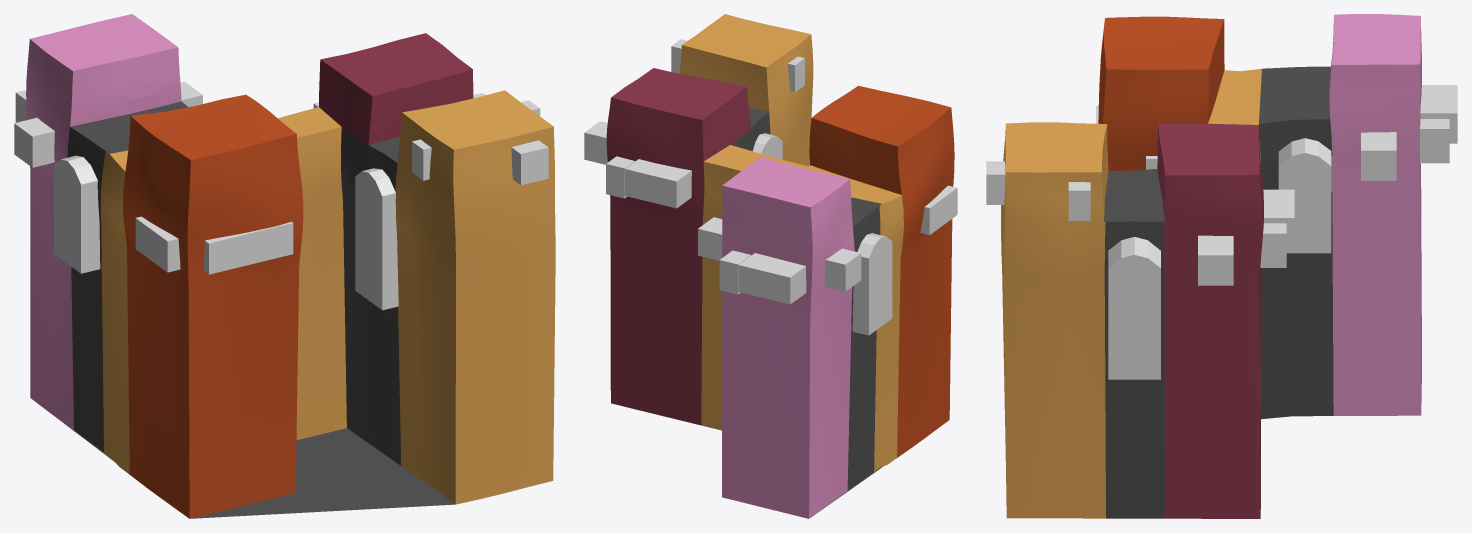
File: HouseChain.fbx
The picture shows the model from 3 angles, left to right: view 1: azimuth 30°, elevation 25°; view 2: azimuth 150°, elevation 25°; view 3: azimuth 270°, elevation 25°; orthographic projection. The views are drawn at different scales.
Visible parts, largest first — view 1: BezierCurve, Cube, Cube.001, depot.002, Hair.004, depot.003, Home, Home.001; view 2: BezierCurve, Cube.001, Hair.002, Tailors.002, Hair.004, depot.003, Hair.003, Hair.001, Tailors.001, Tailors.003, Cube, Home.001; view 3: BezierCurve, Cube, Cube.001, Tailors.001, Hair.003, Hair.002, Hair.001, Tailors.002, Tailors.003, Home.002, Home.
Boxes of the visible parts, x1=… form: BezierCurve: x1=26, y1=14, x2=555, y2=518; Cube: x1=355, y1=168, x2=398, y2=310; Cube.001: x1=54, y1=155, x2=100, y2=273; depot.002: x1=204, y1=221, x2=293, y2=274; Hair.004: x1=14, y1=117, x2=54, y2=167; depot.003: x1=135, y1=216, x2=180, y2=272; Home: x1=511, y1=140, x2=548, y2=185; Home.001: x1=412, y1=139, x2=431, y2=180; BezierCurve: x1=606, y1=14, x2=954, y2=518; Cube.001: x1=852, y1=233, x2=892, y2=335; Hair.002: x1=738, y1=253, x2=806, y2=304; Tailors.002: x1=625, y1=159, x2=691, y2=208; Hair.004: x1=824, y1=248, x2=861, y2=291; depot.003: x1=920, y1=185, x2=957, y2=234; Hair.003: x1=698, y1=217, x2=722, y2=260; Hair.001: x1=719, y1=250, x2=751, y2=294; Tailors.001: x1=584, y1=121, x2=607, y2=164; Tailors.003: x1=606, y1=156, x2=634, y2=198; Cube: x1=753, y1=133, x2=782, y2=159; Home.001: x1=787, y1=56, x2=804, y2=92; BezierCurve: x1=1001, y1=14, x2=1421, y2=518; Cube: x1=1108, y1=237, x2=1160, y2=379; Cube.001: x1=1278, y1=138, x2=1331, y2=253; Tailors.001: x1=1198, y1=235, x2=1233, y2=285; Hair.003: x1=1361, y1=132, x2=1396, y2=180; Hair.002: x1=1420, y1=85, x2=1457, y2=143; Hair.001: x1=1420, y1=119, x2=1449, y2=163; Tailors.002: x1=1263, y1=189, x2=1294, y2=248; Tailors.003: x1=1260, y1=223, x2=1286, y2=267; Home.002: x1=1068, y1=182, x2=1090, y2=220; Home: x1=986, y1=161, x2=1005, y2=204.
Size of the model in its own units: 310 by 280 by 336.
